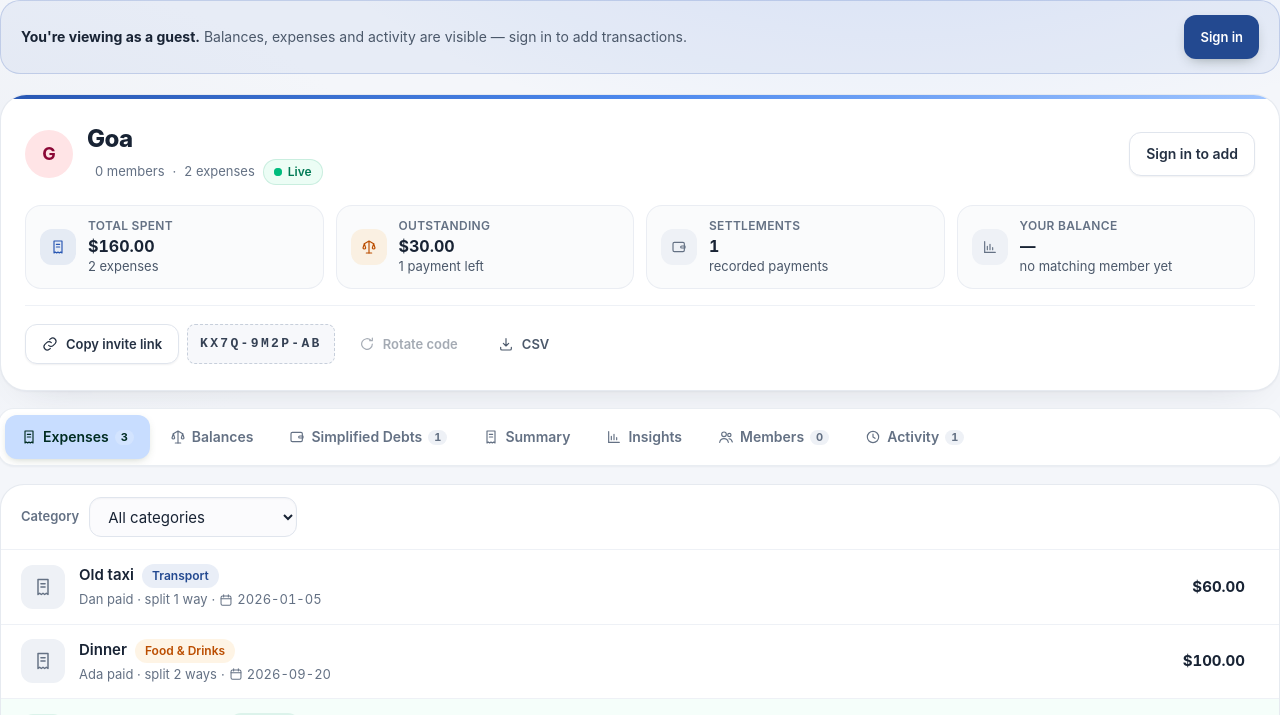
GroupPage as guest › filters expenses by category
Select "Food & Drinks" in the dropdown named "filter expenses by category" at (193, 517), box [89,497,297,537]
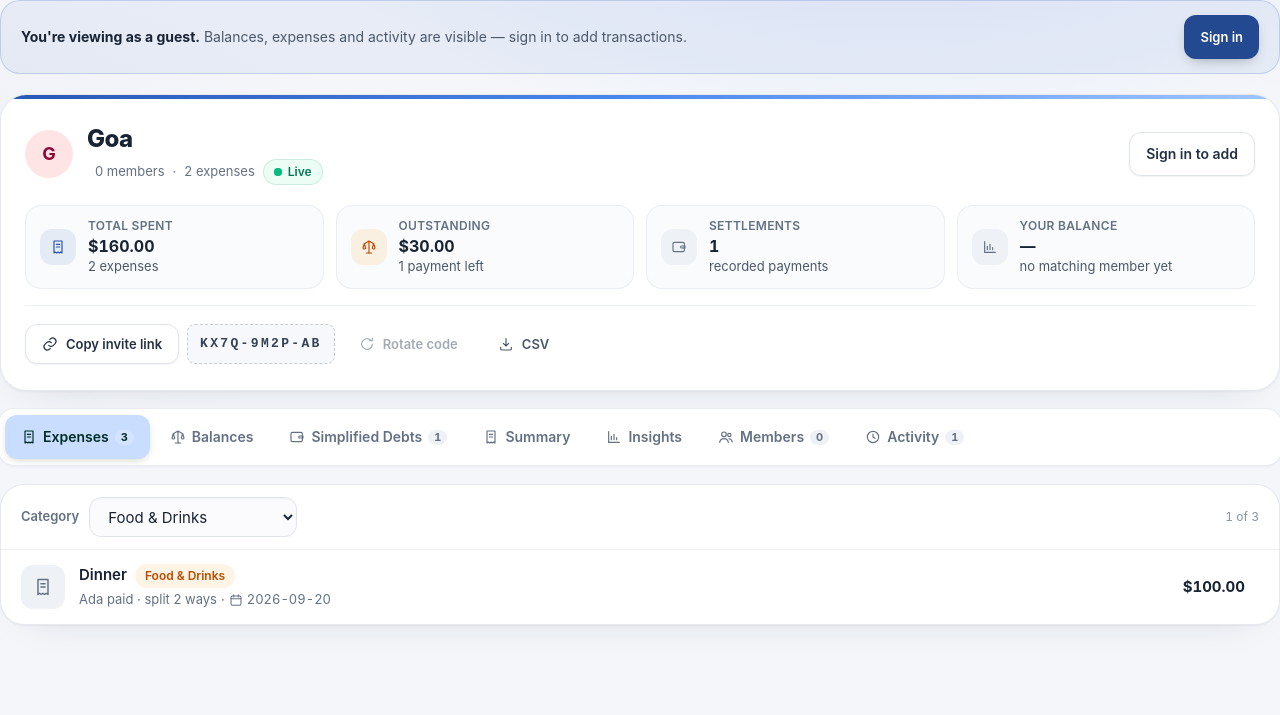
Check: the text "Dinner" is shown, box [79,565,127,584]
Select "Travel" in the dropdown named "filter expenses by category" at (193, 517), box [89,497,297,537]
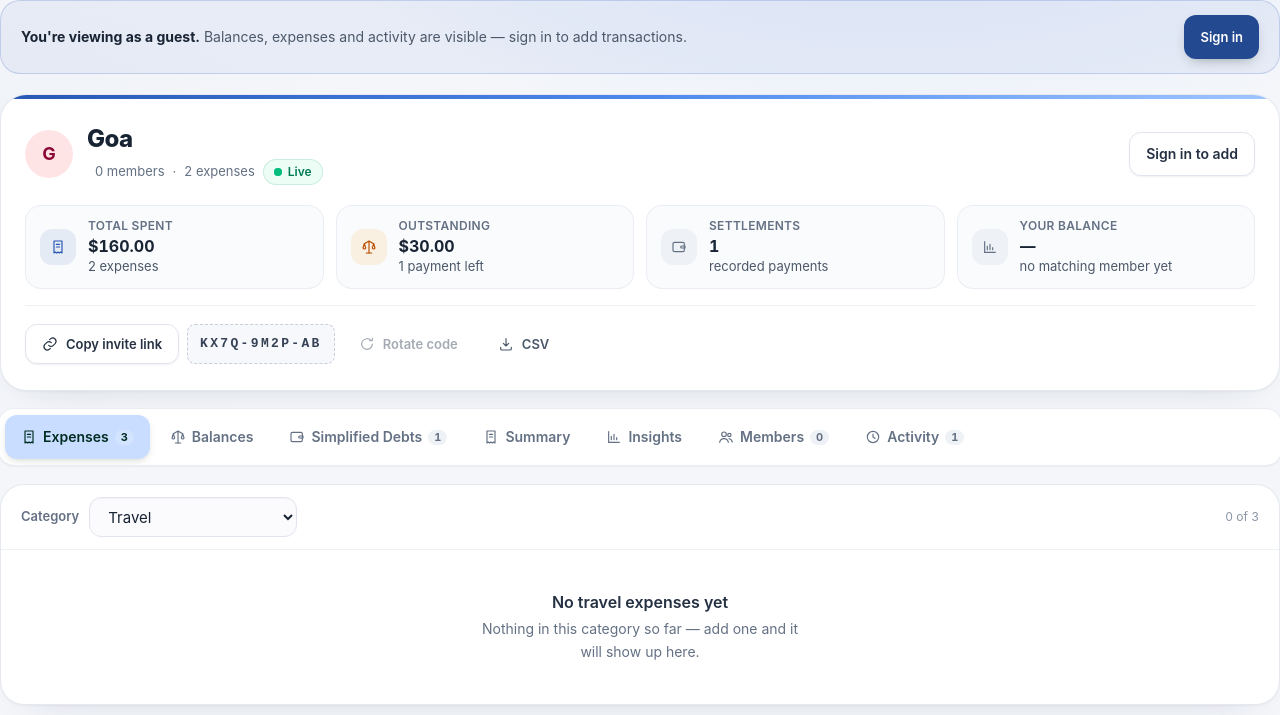
Check: the text "No travel expenses yet" is shown, box [552,592,728,612]
